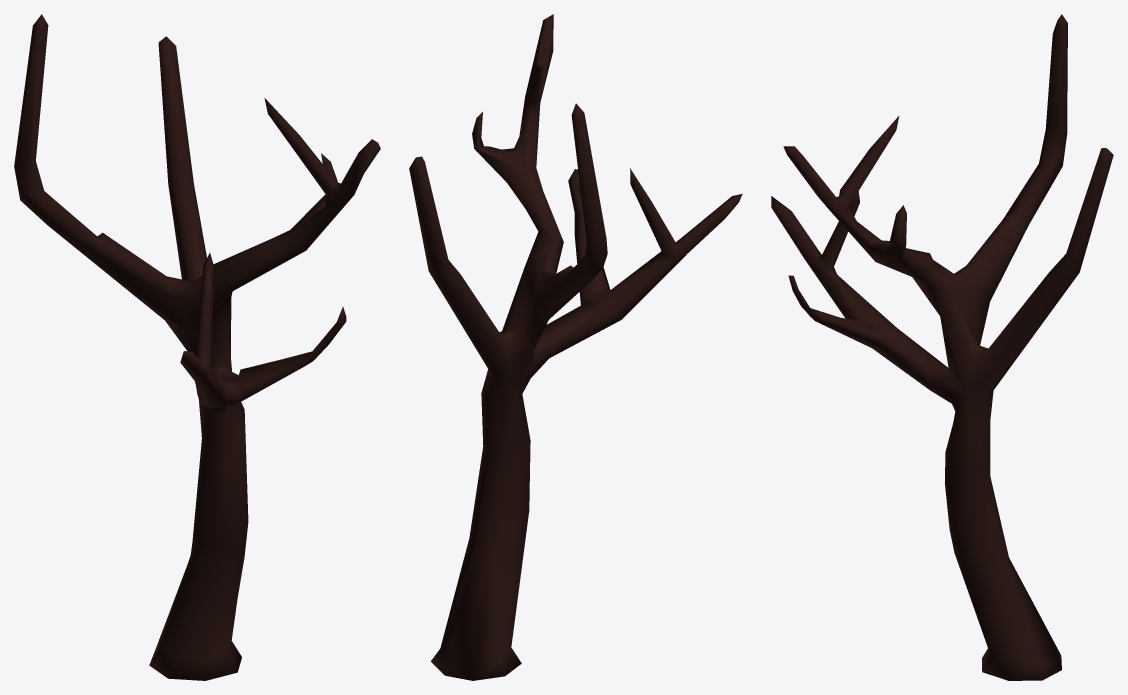
The model's file is CommonTree_Dead_Snow_5.fbx.
3 renders of one model, left to right at view 1: azimuth 30°, elevation 25°; view 2: azimuth 150°, elevation 25°; view 3: azimuth 270°, elevation 25°, orthographic. The views are drawn at different scales.
Parts seen in each view (by area): view 1: CommonTree_Dead_Snow_5; view 2: CommonTree_Dead_Snow_5; view 3: CommonTree_Dead_Snow_5.
Boxes of the visible parts, x1,y1,x2,y2 form: CommonTree_Dead_Snow_5: (14, 14, 380, 680); CommonTree_Dead_Snow_5: (409, 14, 742, 680); CommonTree_Dead_Snow_5: (771, 14, 1113, 680).
Size of the model in its own units: 322 by 457 by 872.
